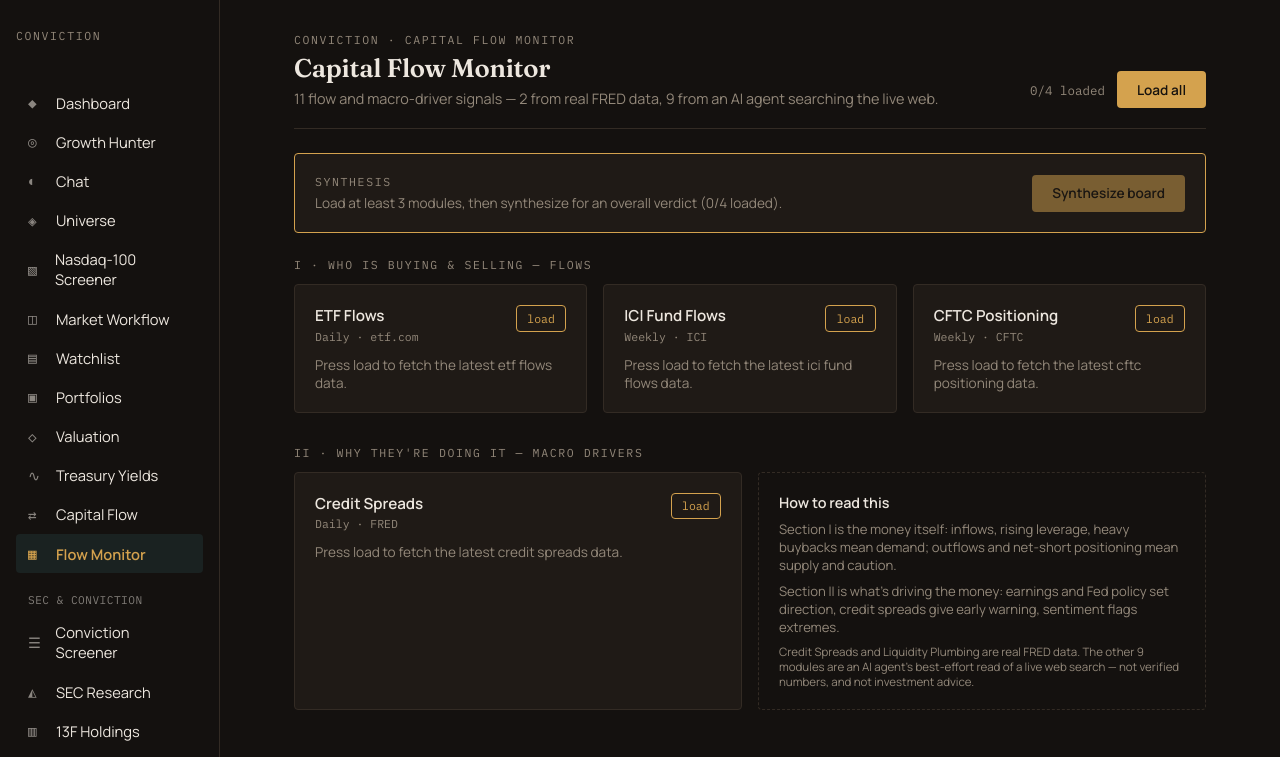
Capital Flow Monitor page › enables and runs Synthesize board once 3+ modules are loaded
The width and height of the screenshot is (1280, 757).
Expected: the text "ETF Flows" is shown, x1=315 y1=305 x2=384 y2=326
Click the button "load" next to "etf.com": (541, 318) x1=516 y1=305 x2=566 y2=332
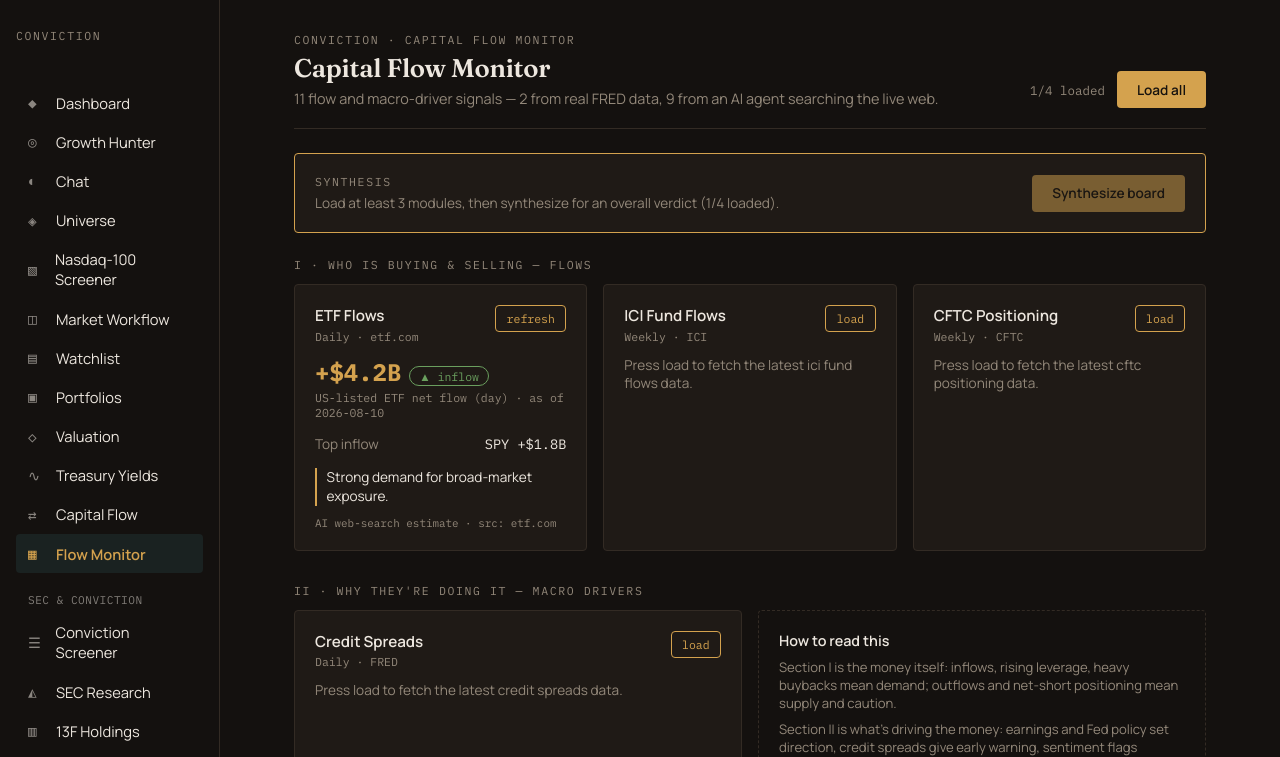
Click the 1st button "load": (850, 318) x1=825 y1=305 x2=876 y2=332
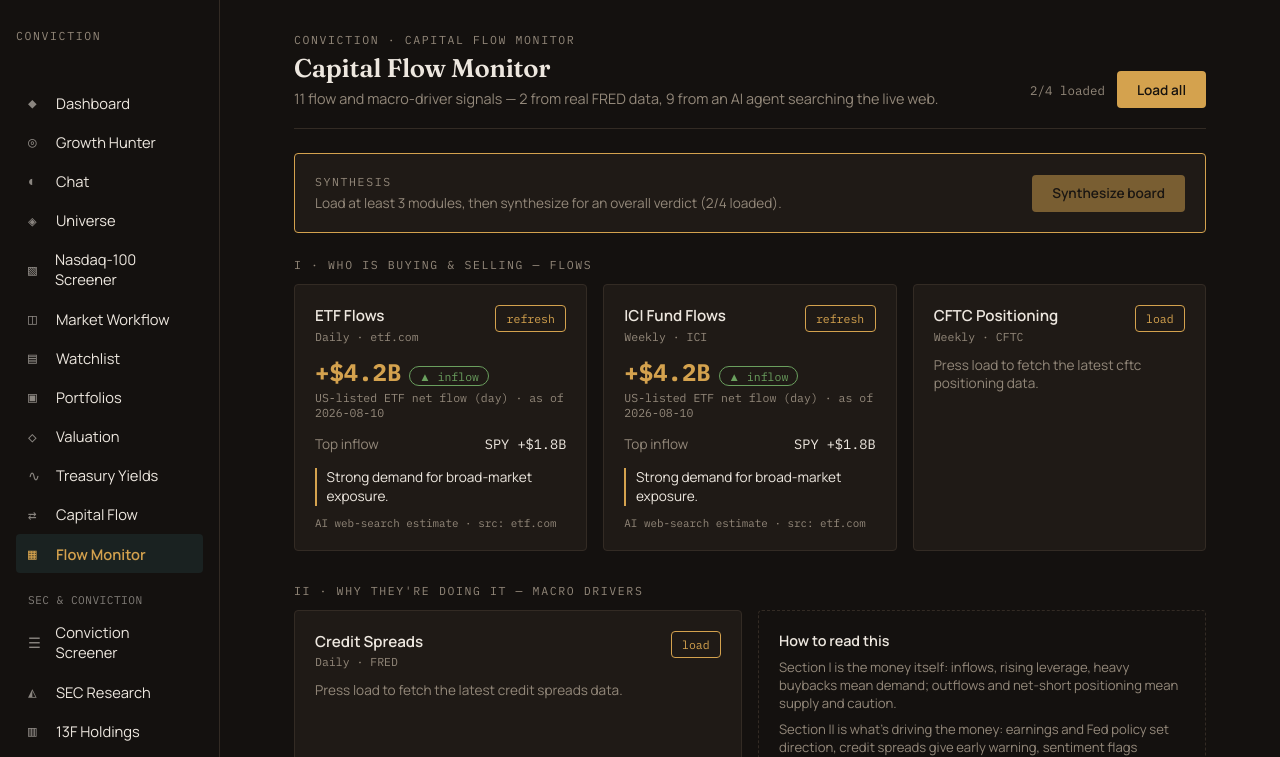
Click the button "load" in the row of "ICI Fund Flows": (1160, 318) x1=1135 y1=305 x2=1185 y2=332
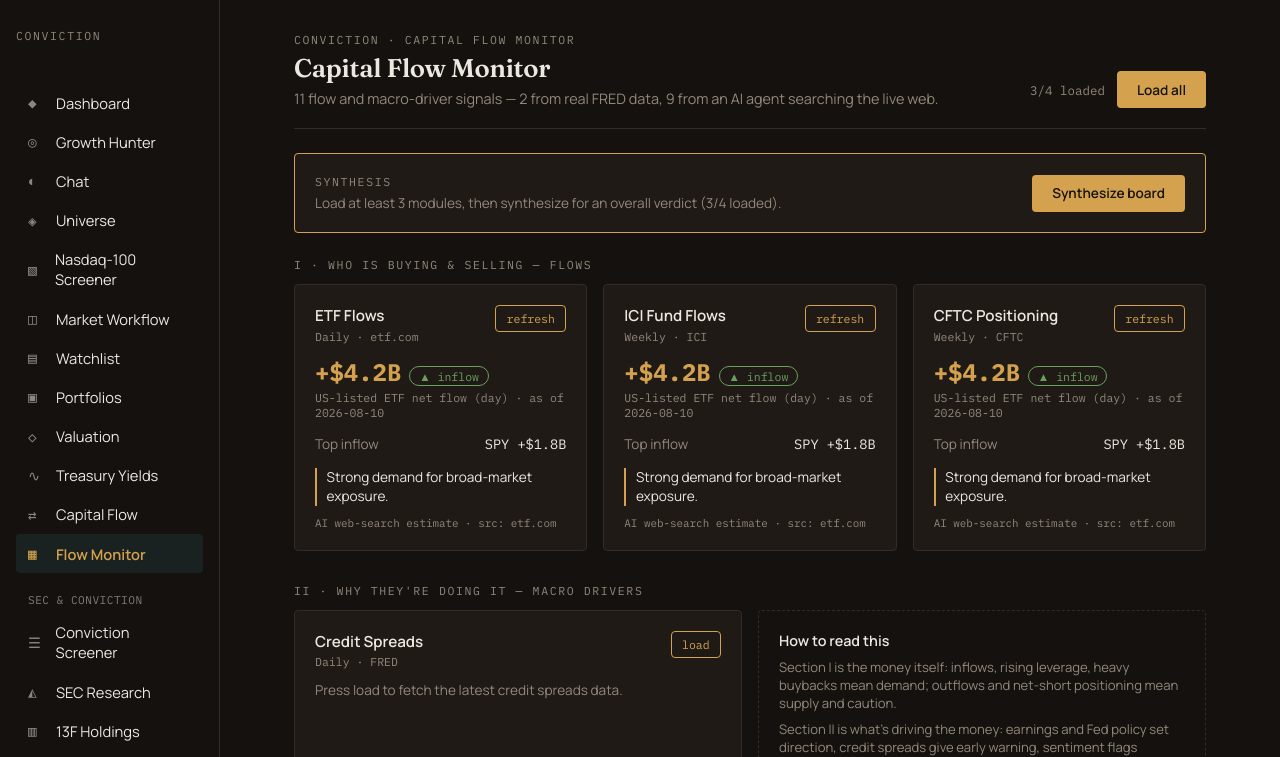
Now the button "Synthesize board" is enabled
Click the button "Synthesize board": (1109, 193) x1=1032 y1=175 x2=1185 y2=212
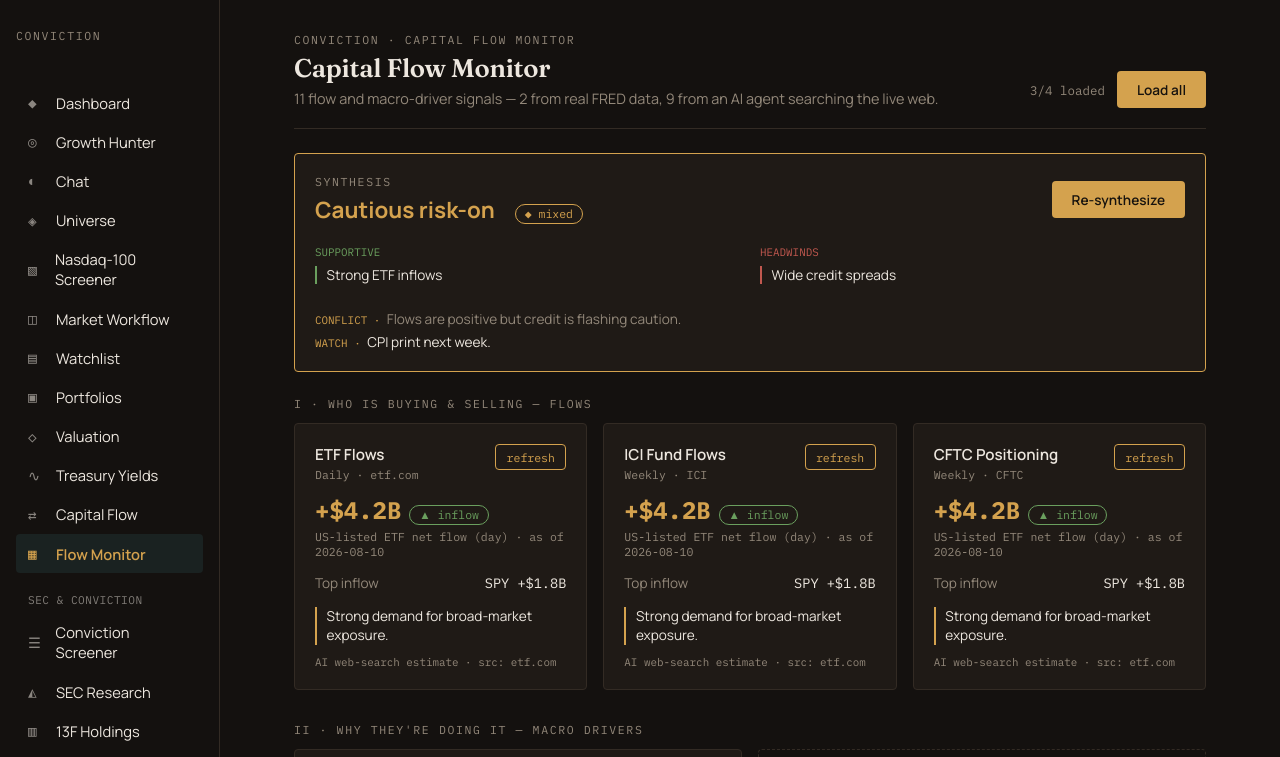
Now the text "Cautious risk-on" is shown, box x1=315 y1=194 x2=495 y2=225
Now the text "Strong ETF inflows" is shown, box x1=315 y1=266 x2=740 y2=284
Now the text "Wide credit spreads" is shown, box x1=760 y1=266 x2=1185 y2=284
